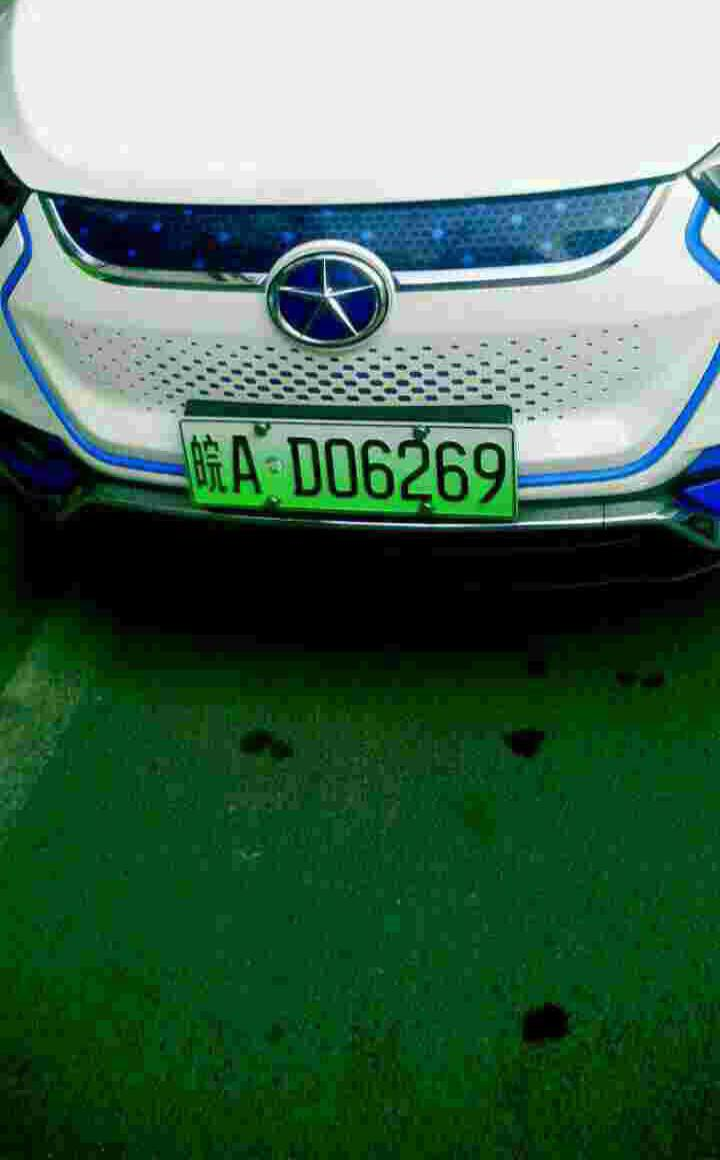car_id: (177, 420, 514, 518)
